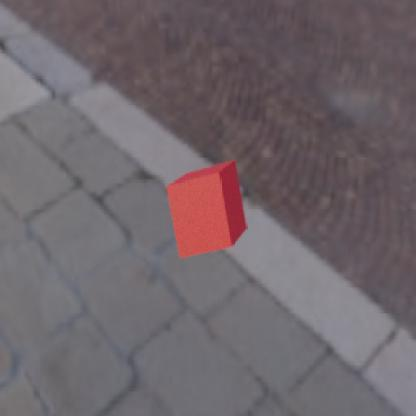red_cube: (165, 160, 247, 258)
